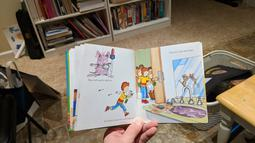text block: (85, 76, 115, 83), (103, 116, 138, 122), (167, 47, 195, 54)
